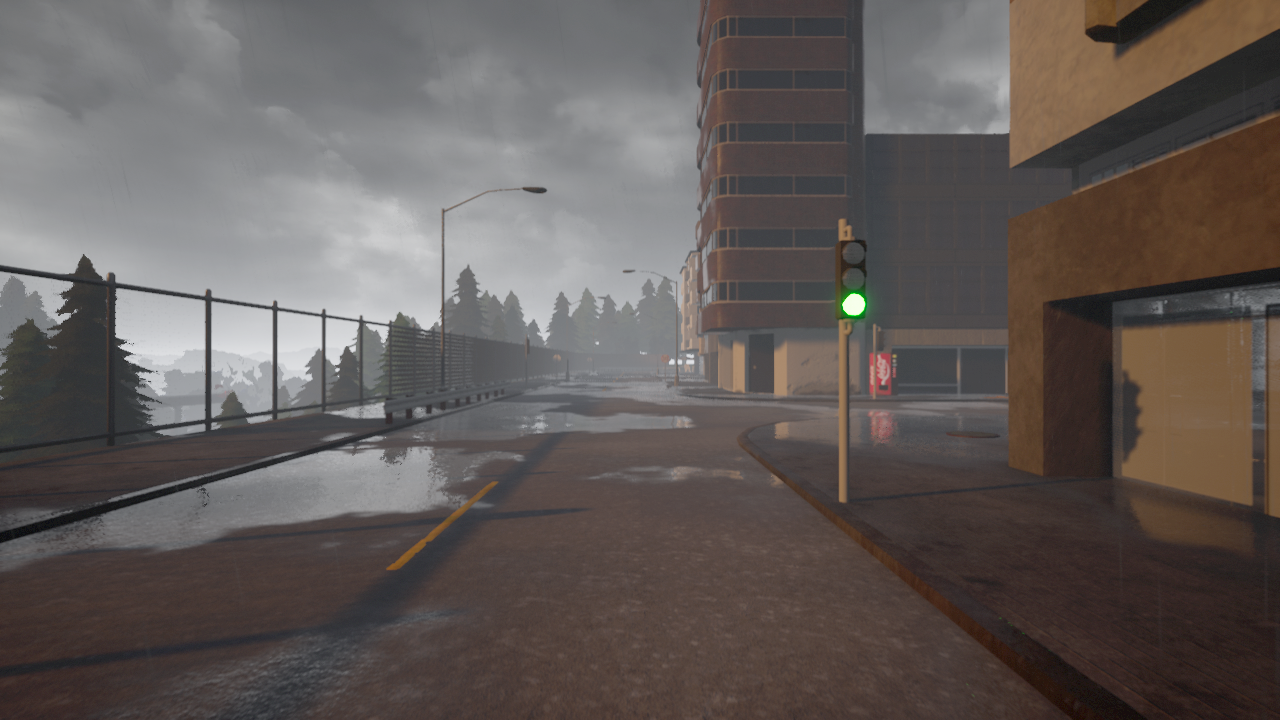green: (833, 236, 869, 319)
